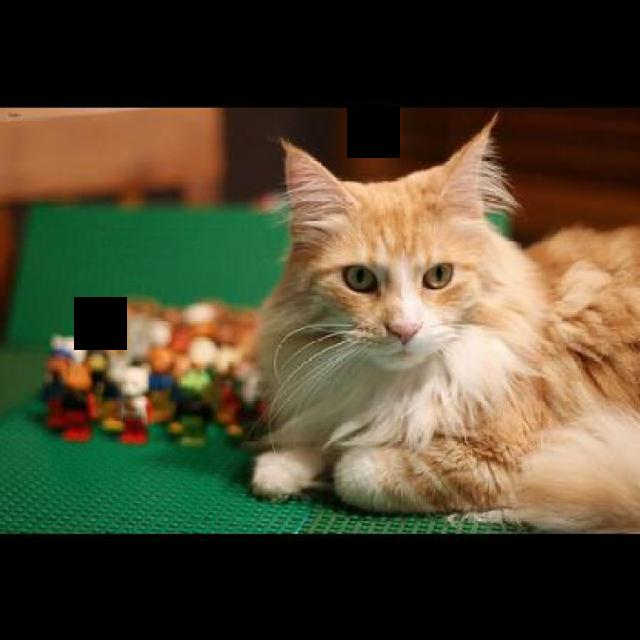unauthorized: (244, 109, 638, 534)
